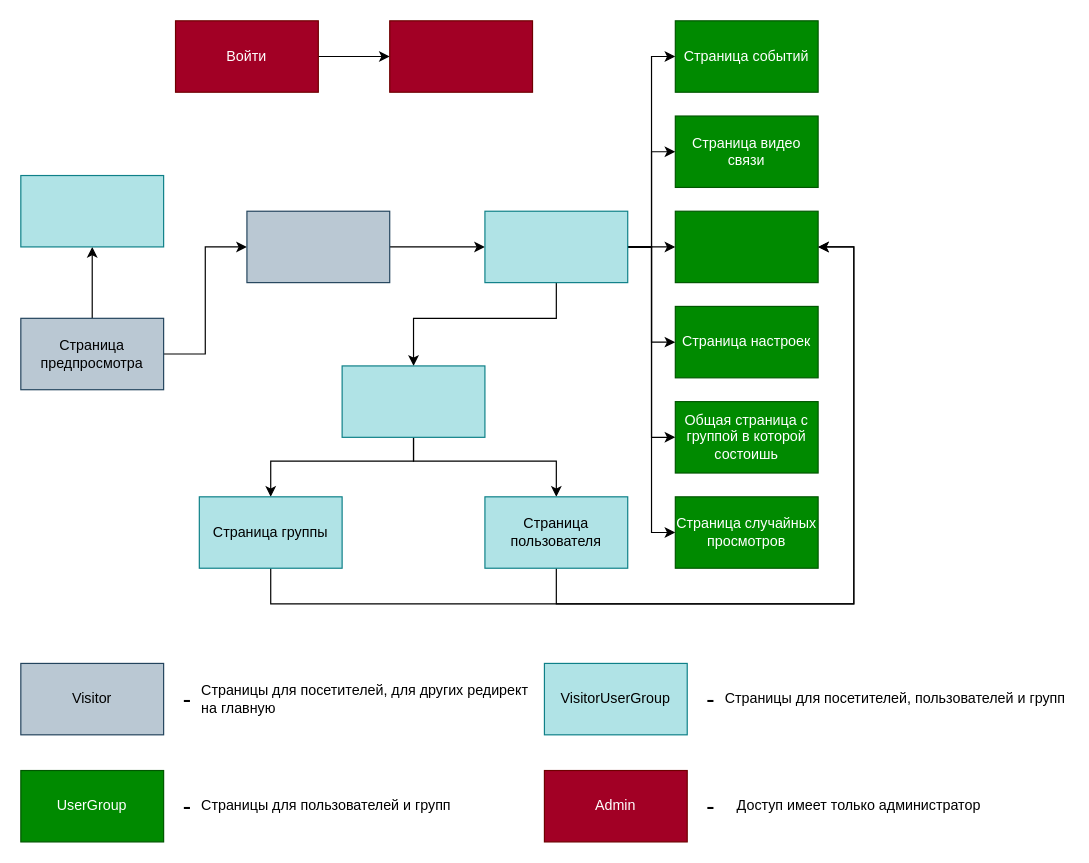
This 1089x863 diagram has some shape labels left out. The centre of each missing label's shape, as x and y in pixels:
Админ панель: (461,56)
Войти / Регистрация: (318,246)
Главная страница: (556,246)
Страница о нас: (92,210)
Страница поиска: (413,401)
Страница с сообщениями: (746,246)
